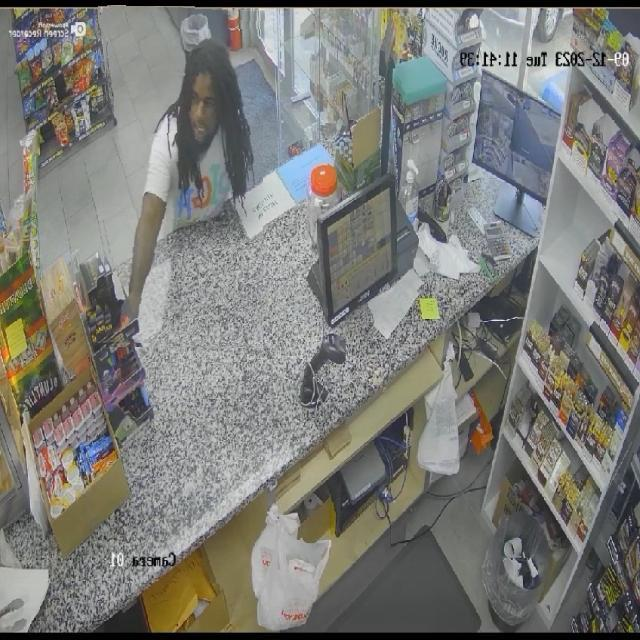normal: (98, 6, 263, 348)
